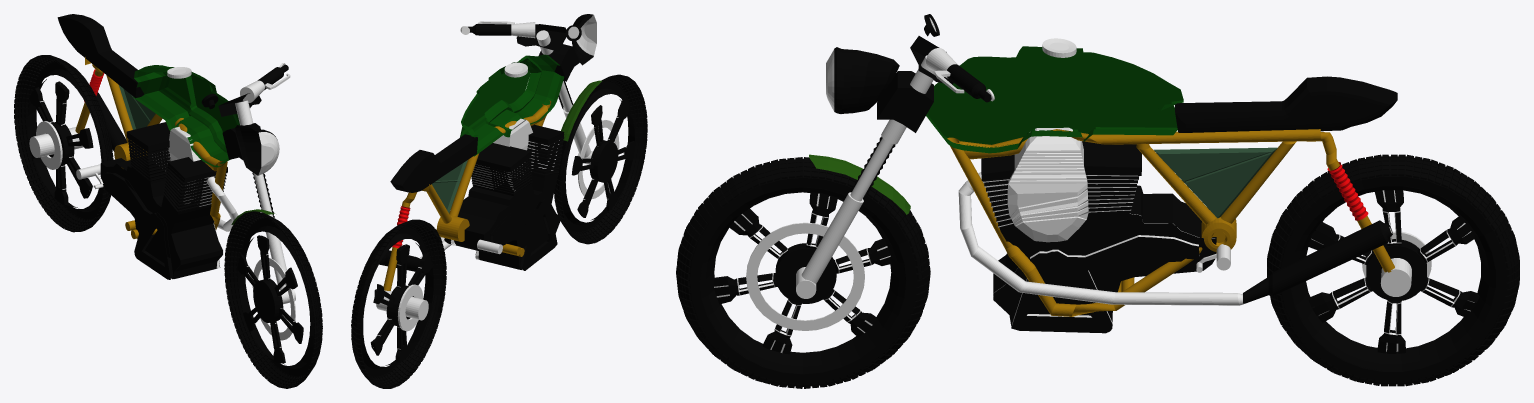
The model's file is bike.glb.
3 renders of one model, left to right at view 1: azimuth 30°, elevation 25°; view 2: azimuth 150°, elevation 25°; view 3: azimuth 270°, elevation 25°, orthographic. The views are drawn at different scales.
Parts seen in each view (by area): view 1: Plane.001, Circle.002, Circle.004, Plane, Plane.007, Cylinder.001, Plane.013, Plane.010, Plane.017, Cylinder.004, Plane.009, Cylinder.002 (+15 smaller); view 2: Plane.001, Circle.004, Plane, Circle.002, Cylinder.001, Plane.007, Plane.013, Plane.010, Plane.017, Plane.015, Cylinder.002, Cylinder.004 (+16 smaller); view 3: Plane, Plane.001, Circle.004, Circle.002, Cylinder.001, Plane.007, Circle.001, Circle.003, Plane.005, Plane.013, Plane.010, Cylinder (+16 smaller).
Boxes of the visible parts, bbox=[...] form: Plane.001: bbox=[100, 138, 226, 279]; Circle.002: bbox=[224, 211, 322, 388]; Circle.004: bbox=[14, 55, 113, 232]; Plane: bbox=[133, 65, 239, 167]; Plane.007: bbox=[57, 14, 144, 98]; Cylinder.001: bbox=[75, 57, 227, 238]; Plane.013: bbox=[28, 81, 93, 204]; Plane.010: bbox=[237, 235, 303, 363]; Plane.017: bbox=[126, 122, 227, 182]; Cylinder.004: bbox=[235, 100, 295, 304]; Plane.009: bbox=[235, 125, 277, 175]; Cylinder.002: bbox=[253, 279, 283, 322]; Plane.001: bbox=[444, 134, 564, 270]; Circle.004: bbox=[351, 219, 446, 388]; Plane: bbox=[460, 54, 564, 156]; Circle.002: bbox=[554, 74, 647, 244]; Cylinder.001: bbox=[383, 100, 551, 290]; Plane.007: bbox=[390, 134, 477, 192]; Plane.013: bbox=[370, 244, 432, 362]; Plane.010: bbox=[571, 100, 635, 217]; Plane.017: bbox=[476, 124, 564, 172]; Plane.015: bbox=[516, 24, 579, 81]; Cylinder.002: bbox=[589, 140, 618, 182]; Cylinder.004: bbox=[536, 30, 592, 164]; Plane: bbox=[926, 46, 1183, 153]; Plane.001: bbox=[982, 175, 1216, 333]; Circle.004: bbox=[1267, 154, 1519, 386]; Circle.002: bbox=[676, 157, 930, 388]; Cylinder.001: bbox=[947, 129, 1394, 316]; Plane.007: bbox=[1175, 76, 1397, 132]; Circle.001: bbox=[699, 187, 905, 374]; Circle.003: bbox=[1290, 186, 1495, 371]; Plane.005: bbox=[1007, 127, 1088, 242]; Plane.013: bbox=[1307, 190, 1479, 353]; Plane.010: bbox=[713, 193, 891, 354]; Cylinder: bbox=[958, 172, 1392, 305].
Size of the model in its own units: 0.8779 by 1.74 by 3.67.
